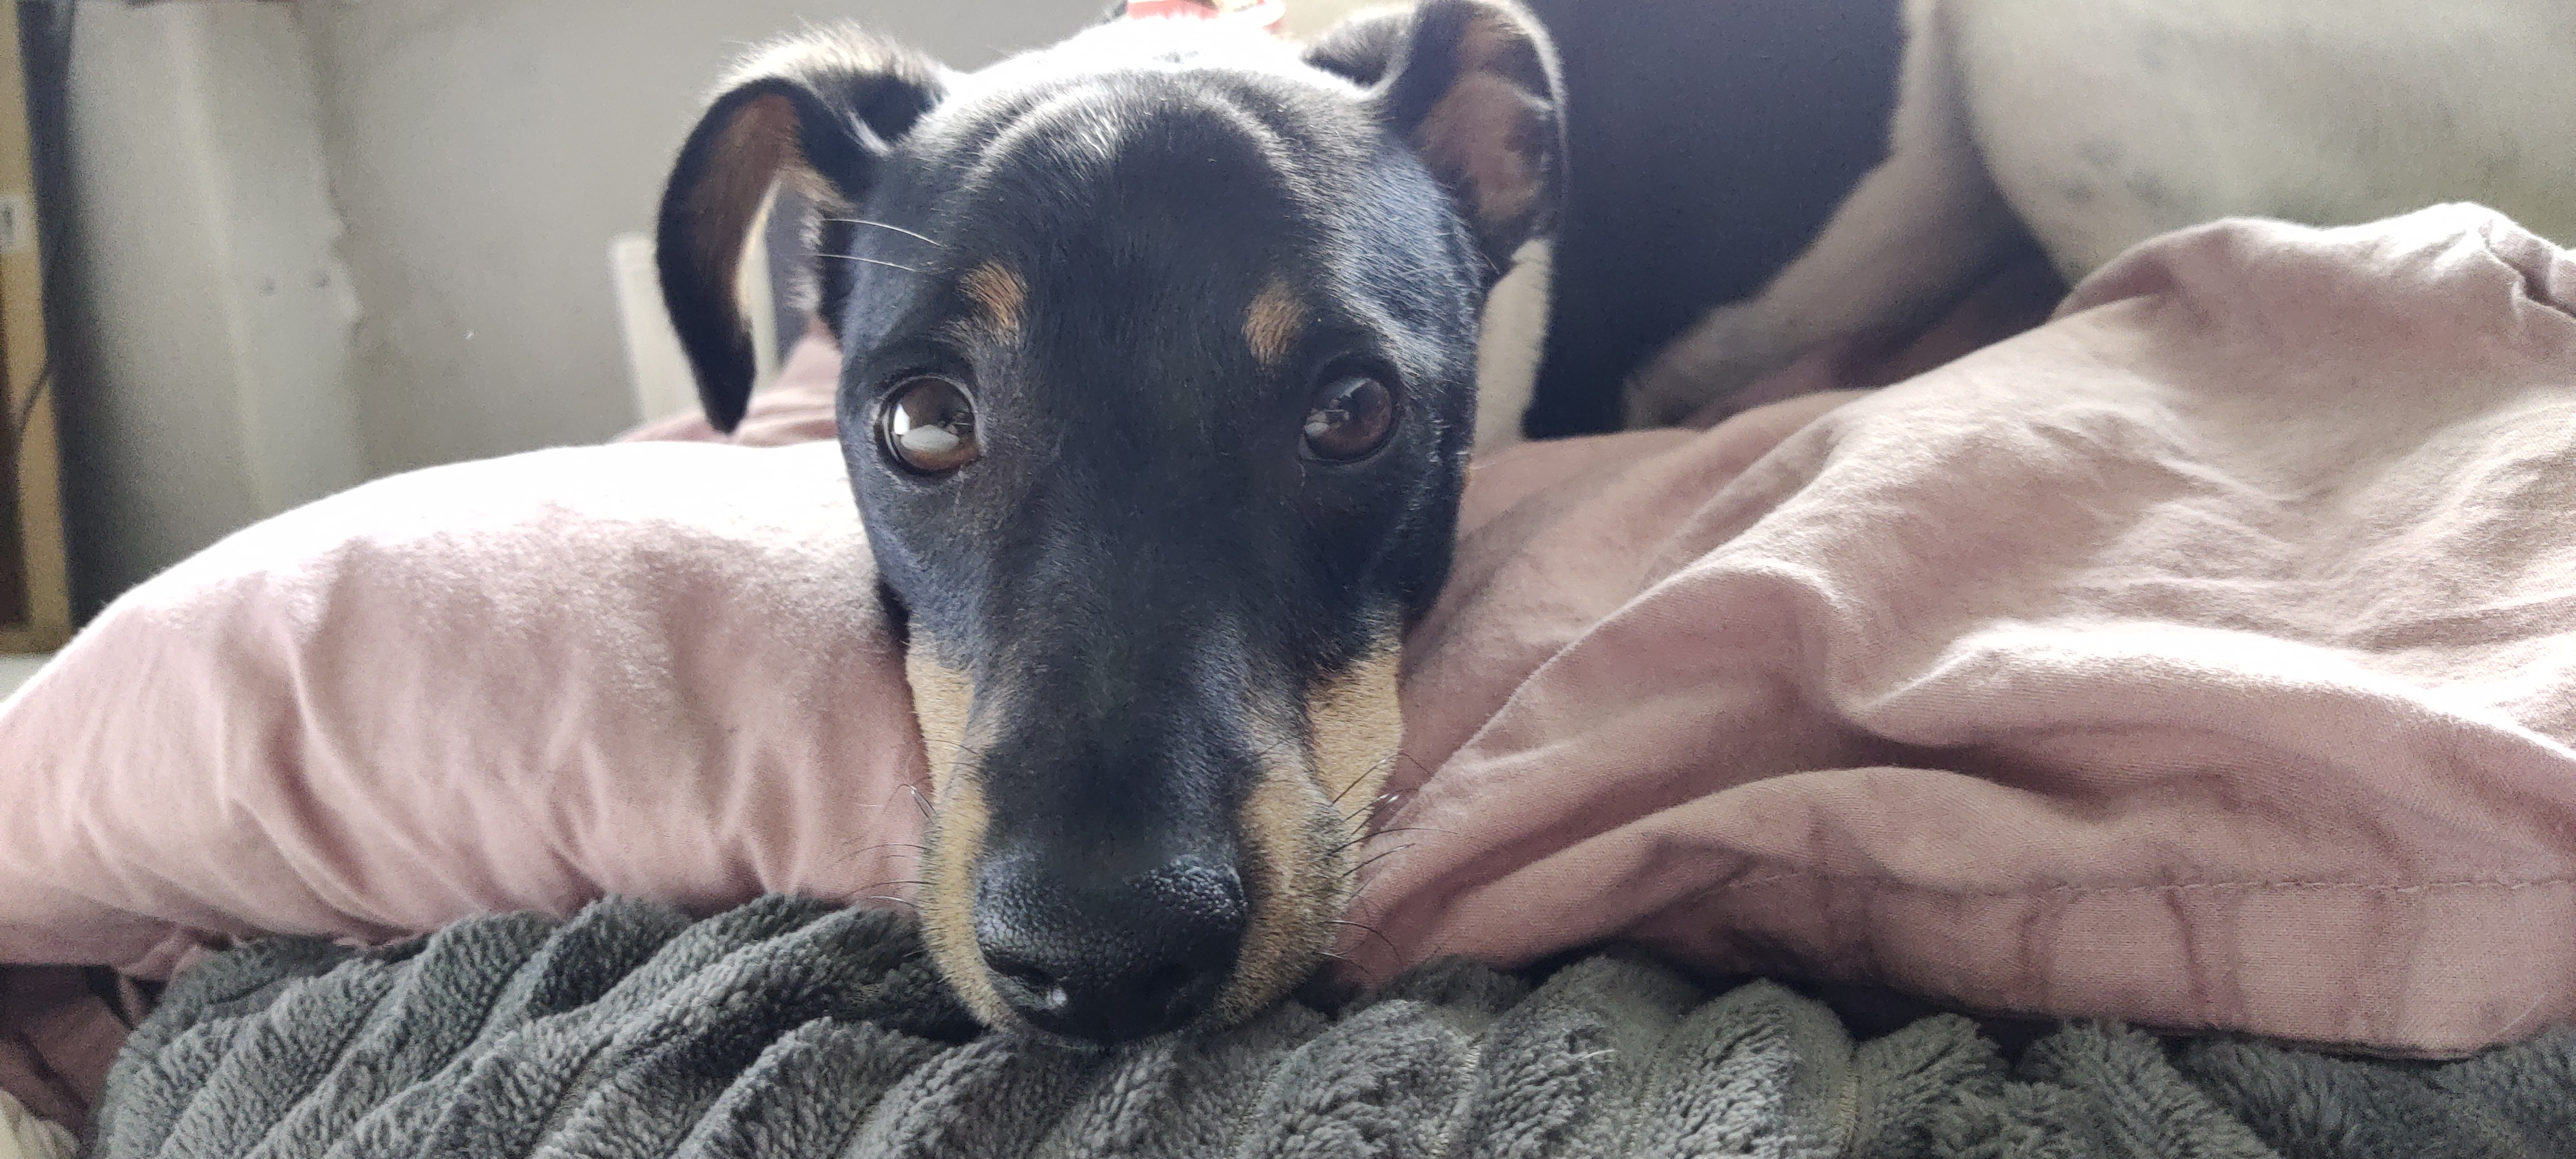Dog: (608, 0, 2576, 1067)
